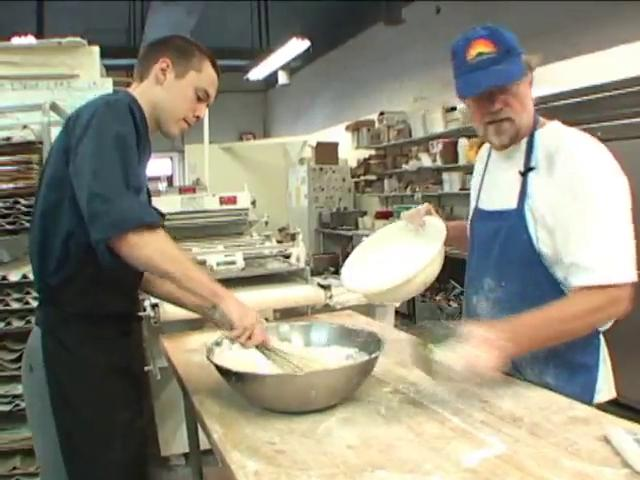victim: (32, 31, 284, 478), (392, 23, 636, 415)
